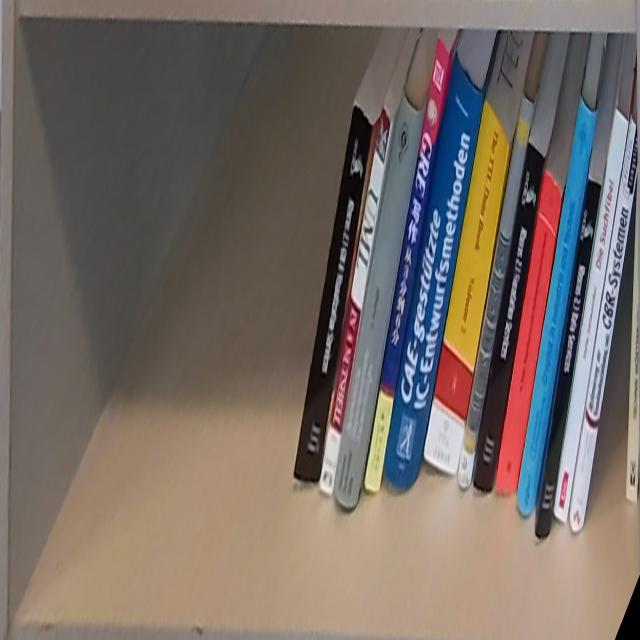Book Spine: (383, 51, 485, 492), (363, 37, 450, 496), (336, 90, 424, 514), (516, 96, 598, 518), (424, 96, 509, 474), (456, 99, 537, 491), (554, 106, 627, 528), (293, 107, 374, 486), (569, 111, 640, 532), (321, 98, 392, 496), (473, 141, 545, 493), (535, 179, 602, 535), (496, 169, 563, 492), (625, 194, 640, 504)
